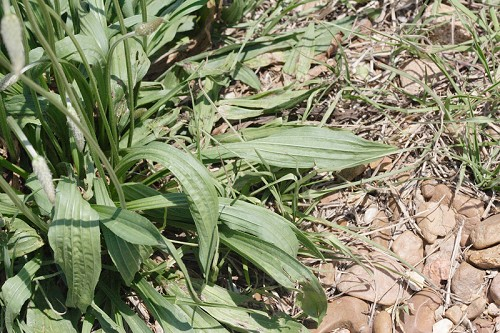buckhorn plantain: (1, 1, 234, 271)
